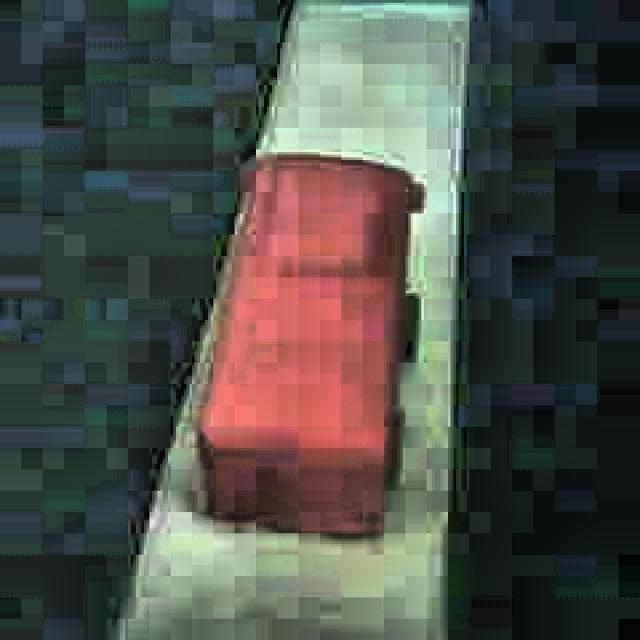bus: (193, 150, 425, 540)
